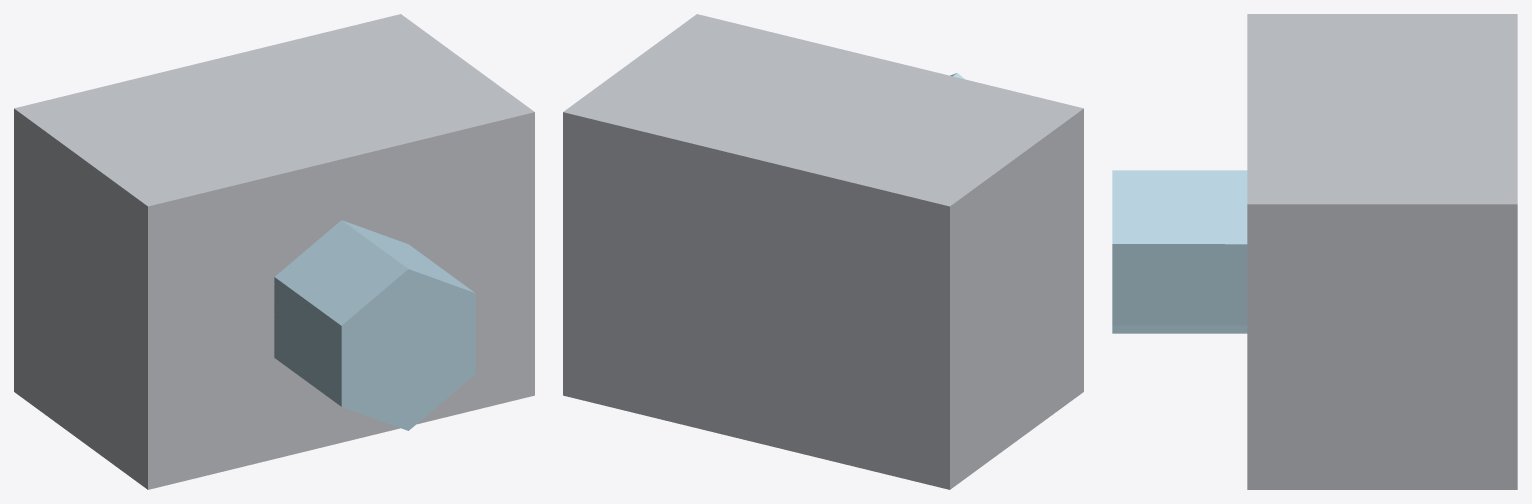
File: camera.glb
3 renders of one model, left to right at view 1: azimuth 30°, elevation 25°; view 2: azimuth 150°, elevation 25°; view 3: azimuth 270°, elevation 25°, orthographic.
Parts seen in each view (by area): view 1: camera, cyl; view 2: camera; view 3: camera, cyl.
Part boxes in pixels (bbox=[...]): camera: bbox=[14, 14, 534, 489]; cyl: bbox=[274, 220, 475, 430]; camera: bbox=[563, 14, 1083, 489]; camera: bbox=[1247, 14, 1517, 489]; cyl: bbox=[1112, 170, 1247, 333].
Size of the model in its own units: 0.1 by 0.07 by 0.09.
